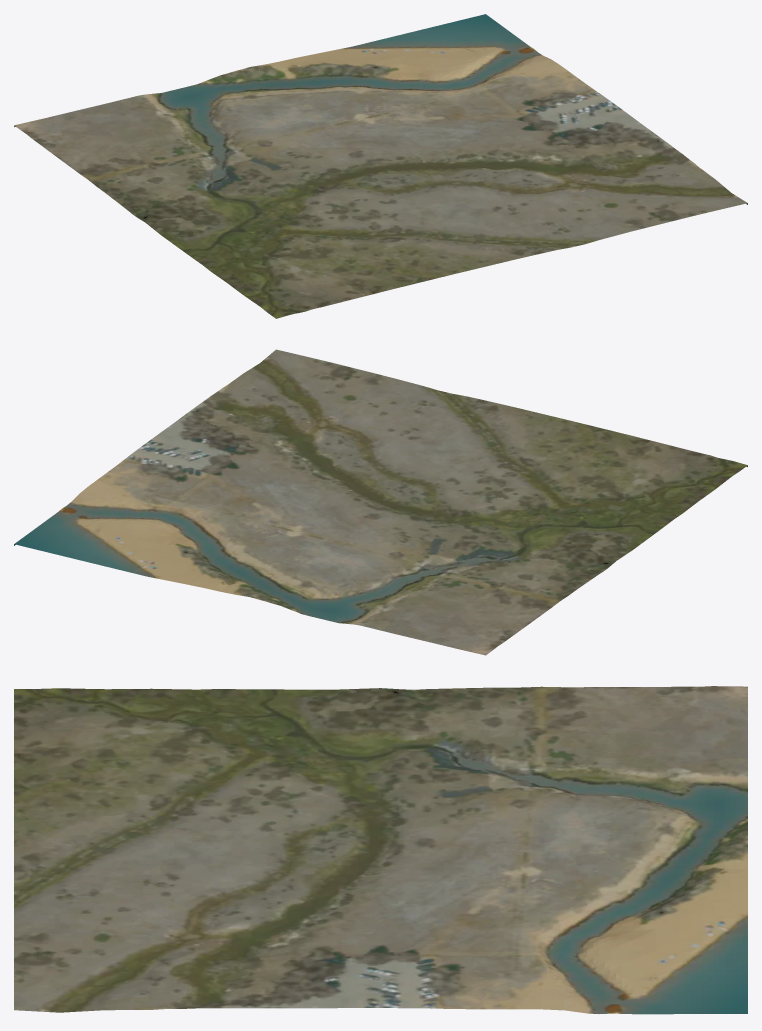
3 renders of one model, top to bottom at view 1: azimuth 30°, elevation 25°; view 2: azimuth 150°, elevation 25°; view 3: azimuth 270°, elevation 25°, orthographic. The views are drawn at different scales.
Bounding box in the file's own units: 250 × 3.35 × 241.
1 material, 1 textured.
